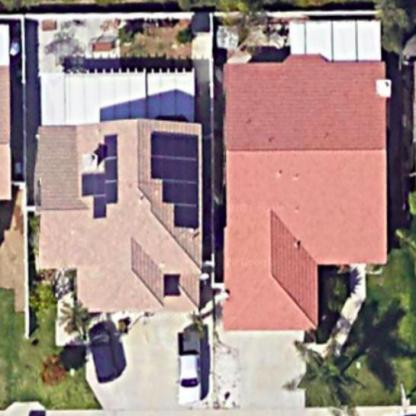car: (166, 323, 210, 411), (79, 315, 122, 383)
solar_panel: (147, 120, 199, 233), (74, 131, 123, 220)
